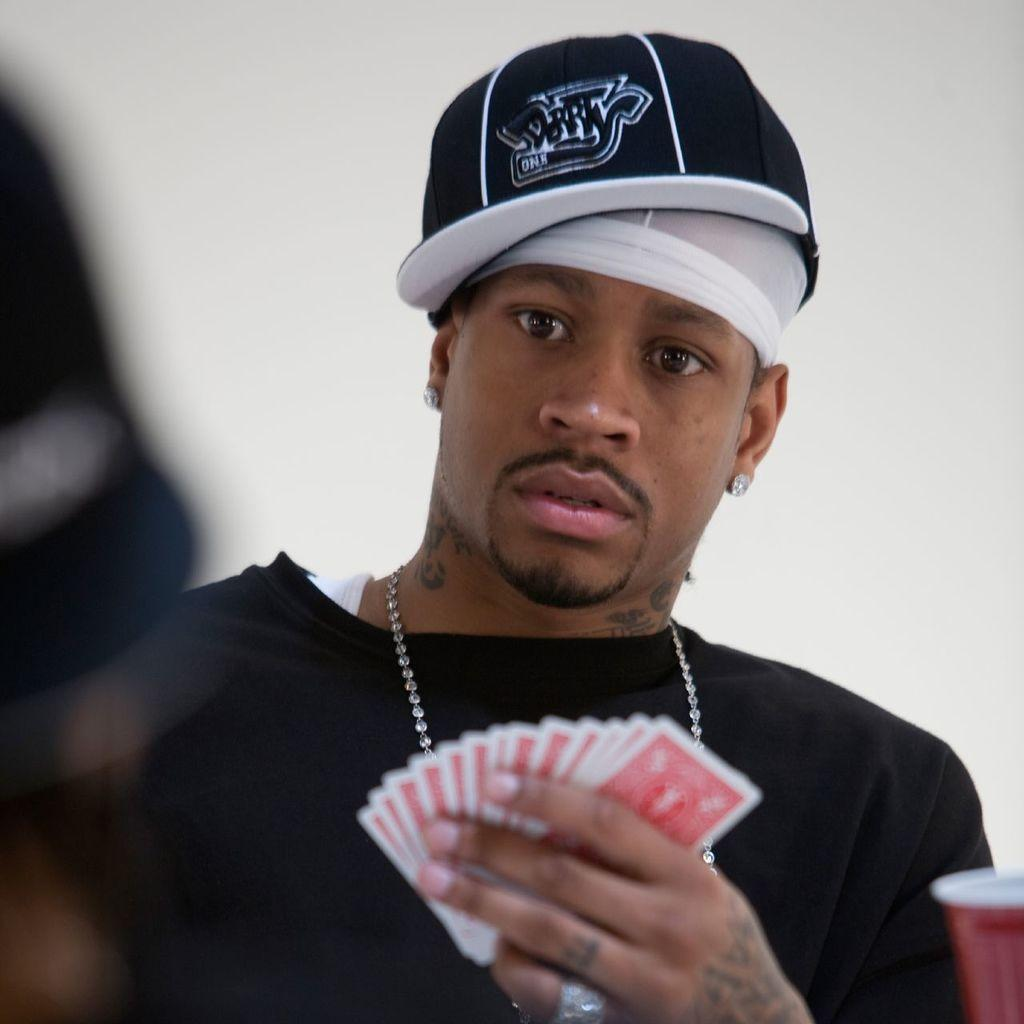Hat: (395, 32, 817, 328)
